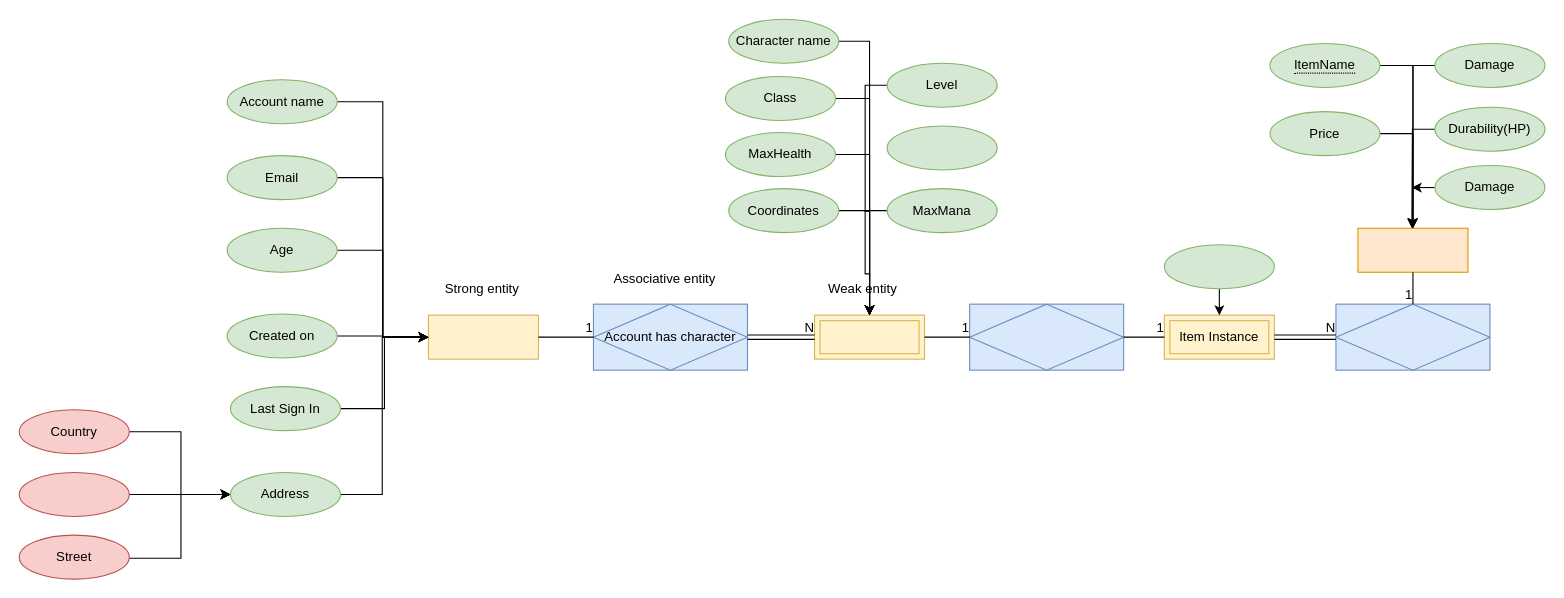
This 1564x598 diagram has some shape labels left out. The shapes that lost their labels are listed below. From the top down, each one's centre as x and y in pixels, then its label:
At (941,147): "Gender(m/f)".
At (1218,266): "Item ID".
At (1412,249): "Item".
At (482,336): "Account".
At (869,336): "Character".
At (1046,336): "Character has".
At (1412,336): "Item has instance".
At (73,493): "City".
